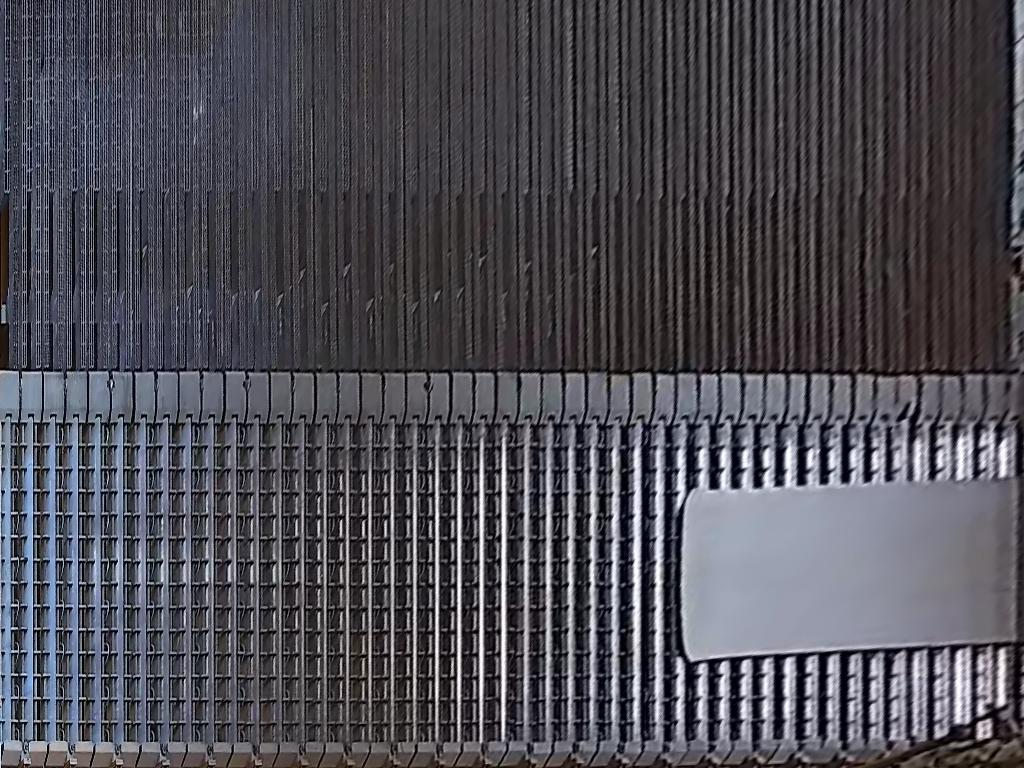steel: (673, 476, 1024, 663)
